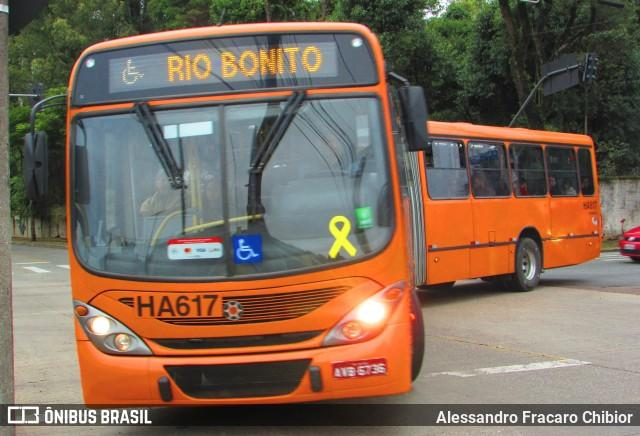RIO BONITO: (160, 43, 326, 89)
